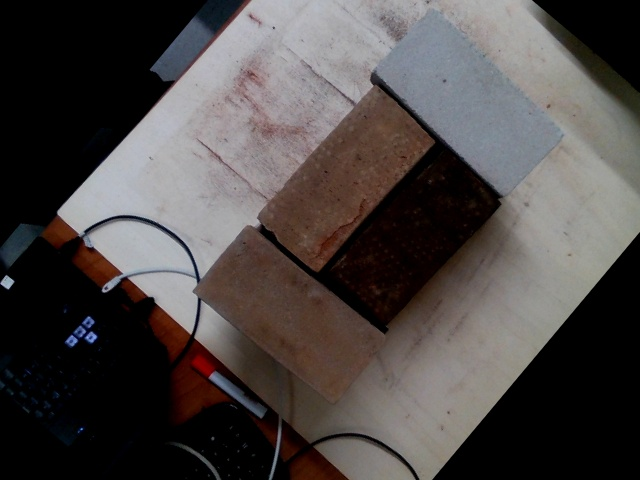brick: (373, 9, 564, 196), (193, 224, 386, 404), (258, 87, 434, 270), (329, 146, 502, 326)
